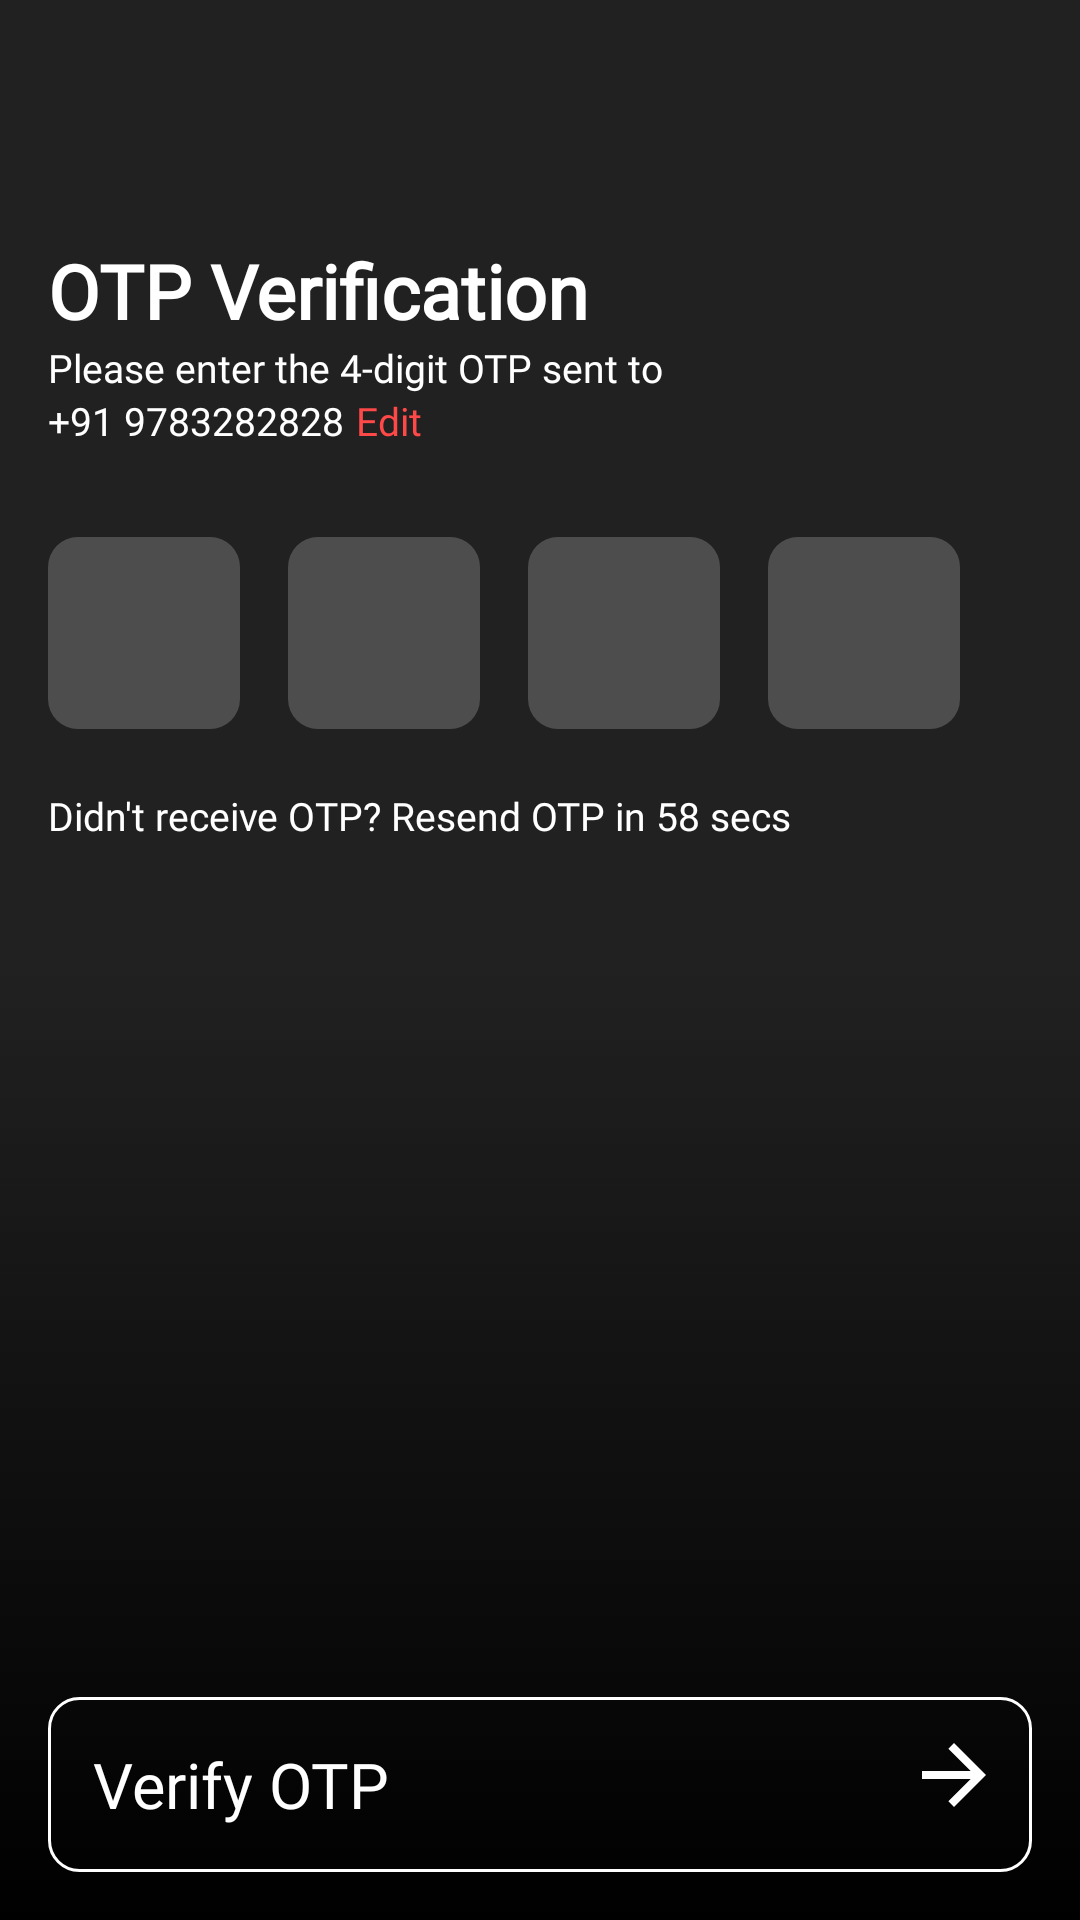

Icon bounding boxes for this 1080×1920 phone screenshot, format (x1, y1, x2, y2):
arrow forward: (922, 1743, 986, 1807)
